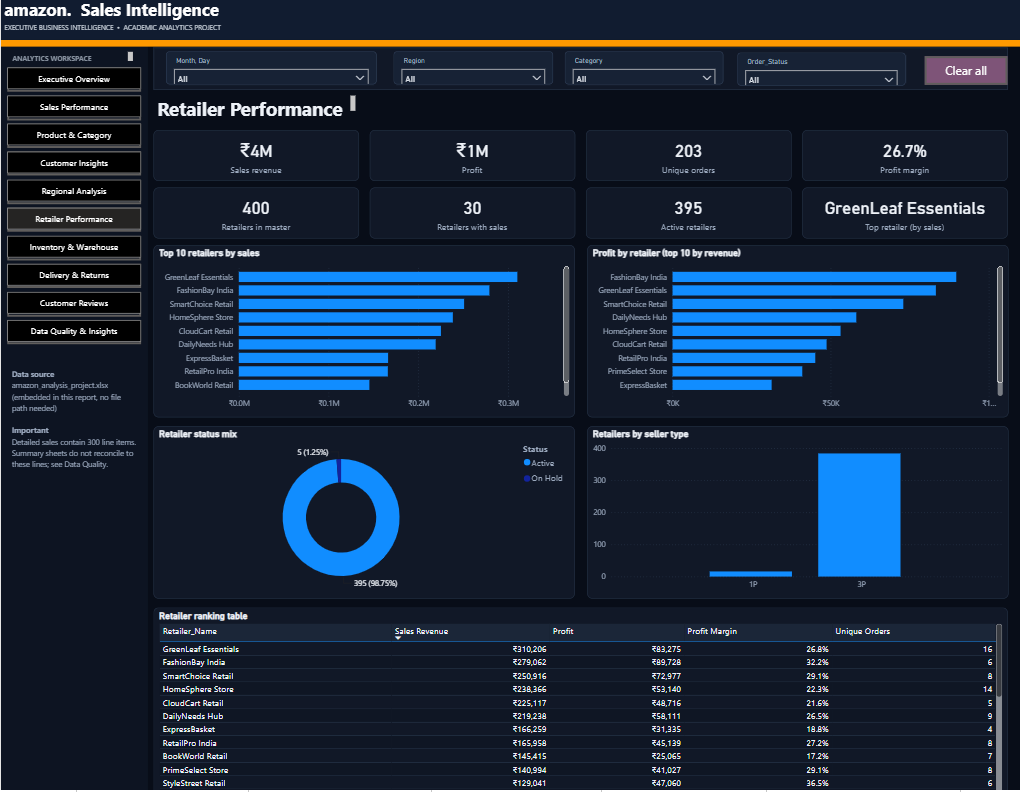

This screenshot's page, from the dashboard's own definition file:
{"tool":"powerbi","page":{"name":"Retailer Performance","canvas":[1600,1300],"ordinal":5},"visuals":[{"type":"textbox","box":[0,70,230,1230],"z":0},{"type":"textbox","box":[0,0,1600,70],"z":1000},{"type":"textbox","box":[0,70,1600,4],"z":2000},{"type":"textbox","box":[12,84,200,24],"z":3000},{"type":"actionButton","box":[10,114,210,38],"z":4000},{"type":"actionButton","box":[10,158,210,38],"z":5000},{"type":"actionButton","box":[10,202,210,38],"z":6000},{"type":"actionButton","box":[10,246,210,38],"z":7000},{"type":"actionButton","box":[10,290,210,38],"z":8000},{"type":"actionButton","box":[10,334,210,38],"z":9000},{"type":"actionButton","box":[10,378,210,38],"z":10000},{"type":"actionButton","box":[10,422,210,38],"z":11000},{"type":"actionButton","box":[10,466,210,38],"z":12000},{"type":"actionButton","box":[10,510,210,38],"z":13000},{"type":"textbox","box":[12,580,206,250],"z":14000},{"type":"textbox","box":[240,82,1340,66],"z":15000},{"type":"slicer","fields":{"Values":["SalesLines.Order_Date.Variation.Date Hierarchy.Month","SalesLines.Order_Date.Variation.Date Hierarchy.Day"]},"box":[259.3,87.9,330,52],"z":16000},{"type":"slicer","fields":{"Values":["SalesLines.Region"]},"box":[615.4,87.9,250.3,52.2],"z":17000},{"type":"slicer","fields":{"Values":["SalesLines.Category"]},"box":[883.6,87.9,248.8,52.2],"z":18000},{"type":"slicer","fields":{"Values":["SalesLines.Order_Status"]},"box":[1154.8,89.4,263.7,52.2],"z":19000},{"type":"actionButton","box":[1449.8,95.4,129.6,44.7],"z":20000},{"type":"textbox","box":[239.9,153.5,321.8,52.2],"z":21000},{"type":"card","fields":{"Values":["_Measures.Sales Revenue"]},"box":[240,212,322,80],"z":23000},{"type":"card","fields":{"Values":["_Measures.Profit"]},"box":[579,212,322,80],"z":24000},{"type":"card","fields":{"Values":["_Measures.Unique Orders"]},"box":[918,212,322,80],"z":25000},{"type":"card","fields":{"Values":["_Measures.Profit Margin"]},"box":[1257,212,322,80],"z":26000},{"type":"card","fields":{"Values":["_Measures.Retailers in Master"]},"box":[240,302,322,80],"z":27000},{"type":"card","fields":{"Values":["_Measures.Retailers with Sales"]},"box":[579,302,322,80],"z":28000},{"type":"card","fields":{"Values":["_Measures.Active Retailers"]},"box":[918,302,322,80],"z":29000},{"type":"card","fields":{"Values":["_Measures.Top Retailer"]},"box":[1257,302,322,80],"z":30000},{"type":"clusteredBarChart","title":"Top 10 retailers by sales","fields":{"Category":["SalesLines.Retailer_Name"],"Y":["_Measures.Top 10 Retailers Sales"]},"box":[240,392,661,270],"z":31000},{"type":"clusteredBarChart","title":"Profit by retailer (top 10 by revenue)","fields":{"Category":["SalesLines.Retailer_Name"],"Y":["_Measures.Top 10 Retailers Profit"]},"box":[919,392,661,270],"z":32000},{"type":"donutChart","title":"Retailer status mix","fields":{"Category":["Retailers.Status"],"Y":["_Measures.Retailer Count"]},"box":[240,676,661,270],"z":33000},{"type":"clusteredColumnChart","title":"Retailers by seller type","fields":{"Category":["Retailers.Seller_Type"],"Y":["_Measures.Retailer Count"]},"box":[919,676,661,270],"z":34000},{"type":"tableEx","title":"Retailer ranking table","fields":{"Values":["SalesLines.Retailer_Name","_Measures.Sales Revenue","_Measures.Profit","_Measures.Profit Margin","_Measures.Unique Orders"]},"box":[240,960,1340,330],"z":35000},{"type":"pageNavigator","box":[10,114,210,434],"z":36000}]}

Visuals, with their boxes on the page's 1600x1300 design canvas (x1, y1, x2, y2). These are canvas units, not pixel positions in the 1020x792 screenshot, which may show the page scaled, cropped or inside an application window:
textbox: (0, 70, 230, 1300)
textbox: (0, 0, 1600, 70)
textbox: (0, 70, 1600, 74)
textbox: (12, 84, 212, 108)
actionButton: (10, 114, 220, 152)
actionButton: (10, 158, 220, 196)
actionButton: (10, 202, 220, 240)
actionButton: (10, 246, 220, 284)
actionButton: (10, 290, 220, 328)
actionButton: (10, 334, 220, 372)
actionButton: (10, 378, 220, 416)
actionButton: (10, 422, 220, 460)
actionButton: (10, 466, 220, 504)
actionButton: (10, 510, 220, 548)
textbox: (12, 580, 218, 830)
textbox: (240, 82, 1580, 148)
slicer - SalesLines.Order_Date.Variation.Date Hierarchy.Month x SalesLines.Order_Date.Variation.Date Hierarchy.Day: (259, 88, 589, 140)
slicer - SalesLines.Region: (615, 88, 866, 140)
slicer - SalesLines.Category: (884, 88, 1132, 140)
slicer - SalesLines.Order_Status: (1155, 89, 1418, 142)
actionButton: (1450, 95, 1579, 140)
textbox: (240, 154, 562, 206)
card - _Measures.Sales Revenue: (240, 212, 562, 292)
card - _Measures.Profit: (579, 212, 901, 292)
card - _Measures.Unique Orders: (918, 212, 1240, 292)
card - _Measures.Profit Margin: (1257, 212, 1579, 292)
card - _Measures.Retailers in Master: (240, 302, 562, 382)
card - _Measures.Retailers with Sales: (579, 302, 901, 382)
card - _Measures.Active Retailers: (918, 302, 1240, 382)
card - _Measures.Top Retailer: (1257, 302, 1579, 382)
"Top 10 retailers by sales" clusteredBarChart: (240, 392, 901, 662)
"Profit by retailer (top 10 by revenue)" clusteredBarChart: (919, 392, 1580, 662)
"Retailer status mix" donutChart: (240, 676, 901, 946)
"Retailers by seller type" clusteredColumnChart: (919, 676, 1580, 946)
"Retailer ranking table" tableEx: (240, 960, 1580, 1290)
pageNavigator: (10, 114, 220, 548)
